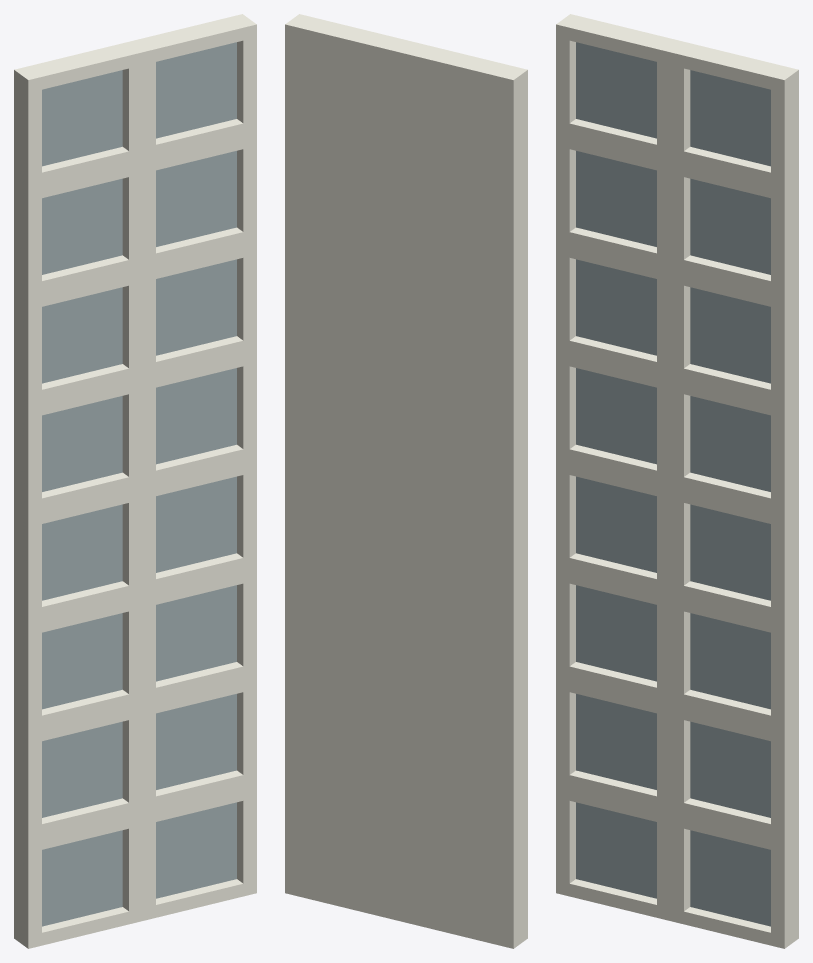
The model's file is fbx_school_outdoor_window1.fbx.
The picture shows the model from 3 angles, left to right: view 1: azimuth 30°, elevation 25°; view 2: azimuth 150°, elevation 25°; view 3: azimuth 330°, elevation 25°; orthographic projection.
Visible parts, largest first — view 1: fbx_school_outdoor_window1; view 2: fbx_school_outdoor_window1; view 3: fbx_school_outdoor_window1.
Boxes of the visible parts, bbox=[...] form: fbx_school_outdoor_window1: bbox=[14, 14, 256, 948]; fbx_school_outdoor_window1: bbox=[285, 14, 527, 948]; fbx_school_outdoor_window1: bbox=[556, 14, 798, 948].
Size of the model in its own units: 0.7278 by 2.64 by 0.0788.
Materials: 1 (1 with a texture image).
